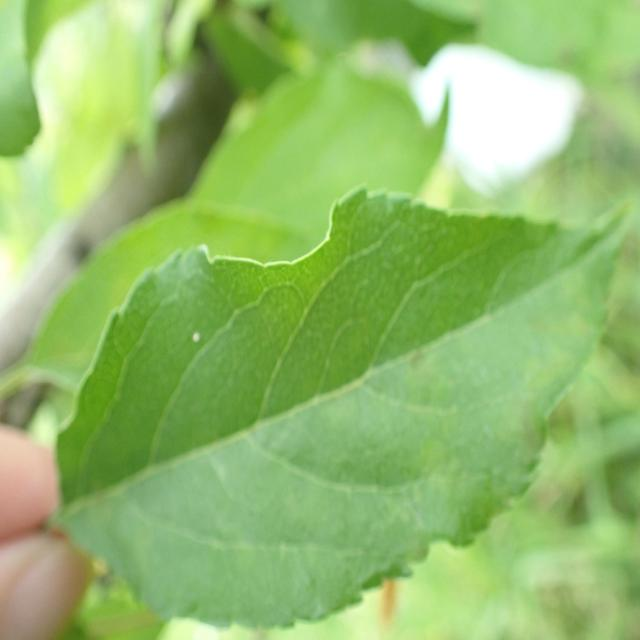scab: (156, 309, 556, 589)
